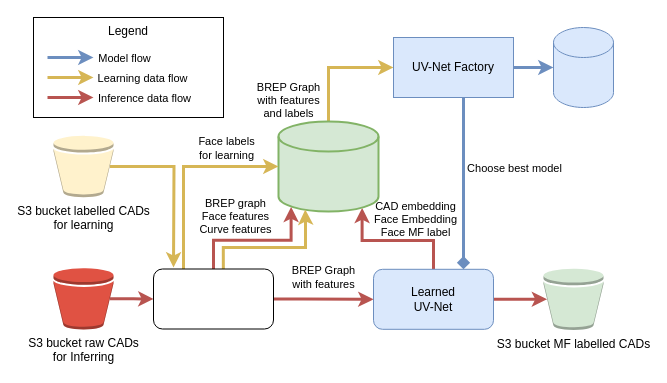
The diagram is 667 pixels wide and 383 high, and some of its shapes have lost their labels. The shapes that lost their labels are listed below. From the top down, each one's centre as x and y in pixels, then its label:
At point 583,67: "Model Versions".
At point 328,166: "BREP Graphs".
At point 213,298: "BREP UV-Net preprocessor".
